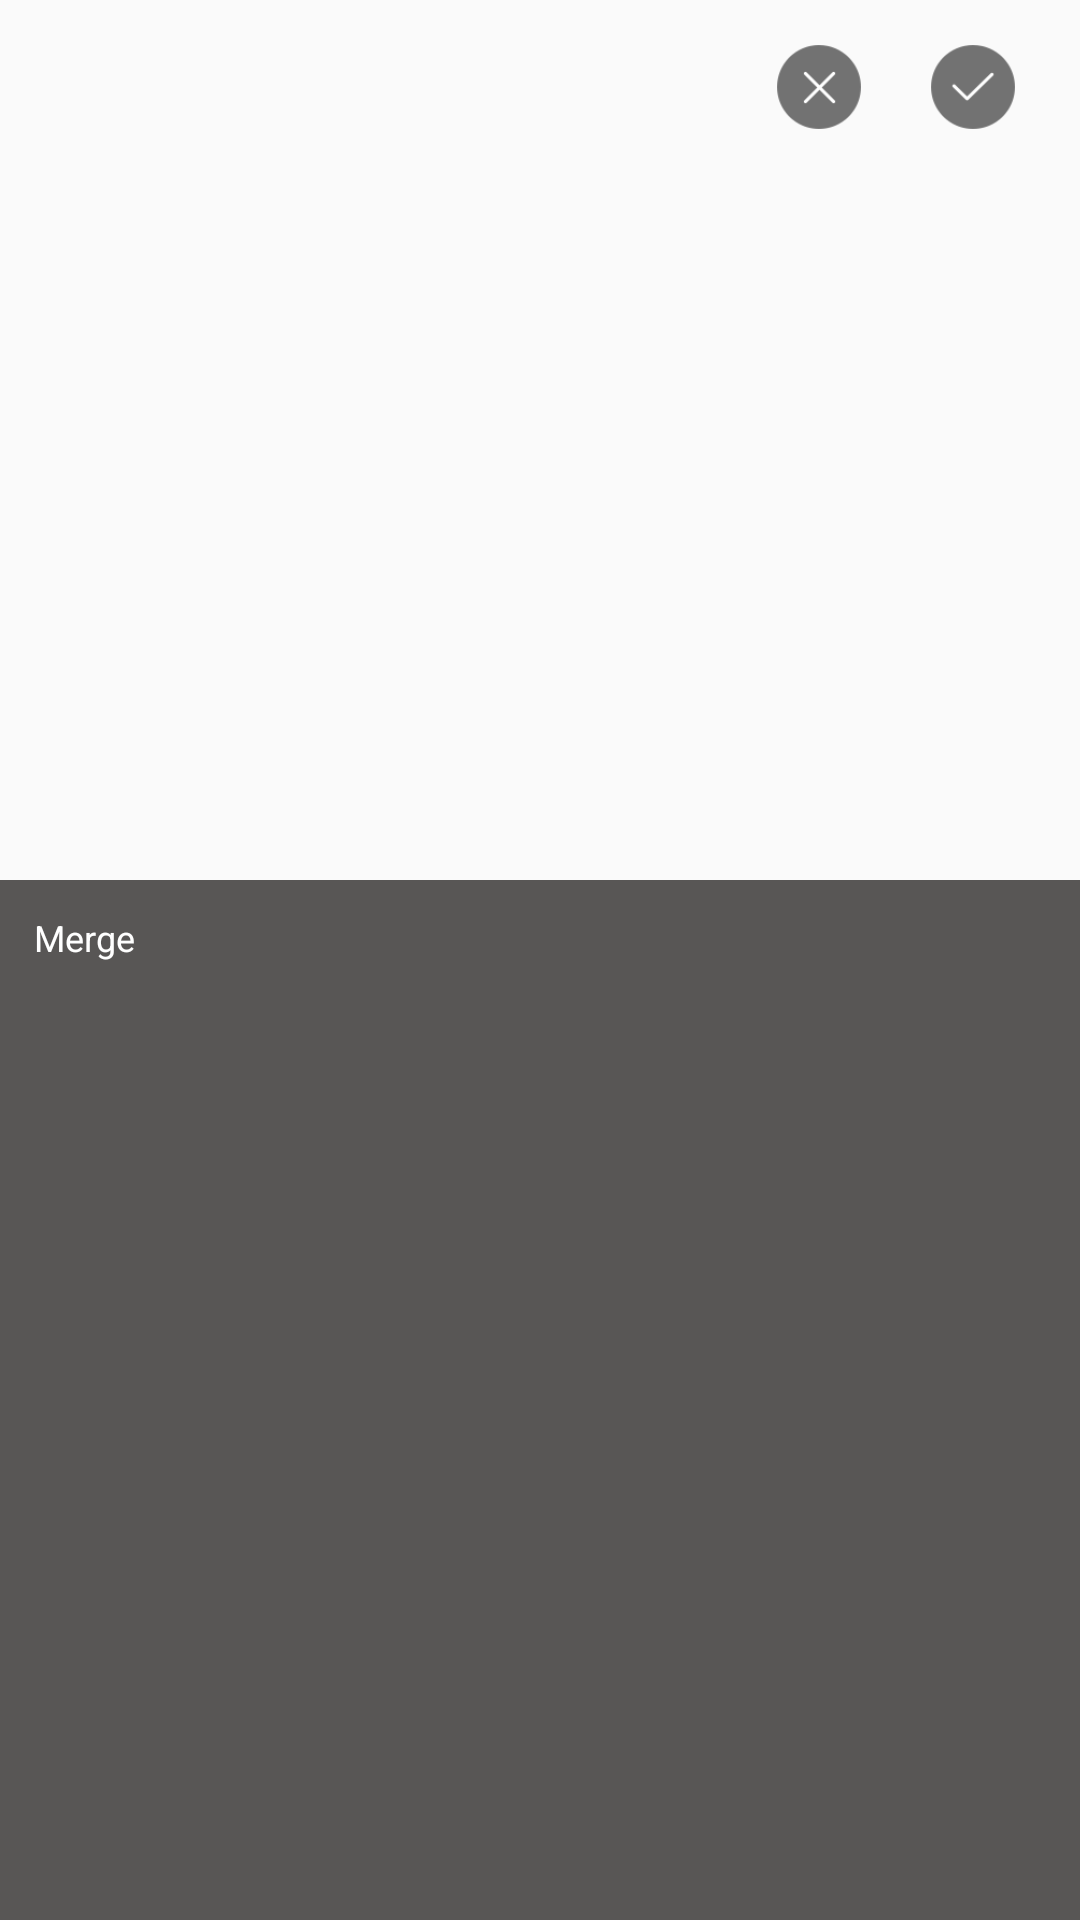

Icon click points for this 1080px x 1920px phone screenshot, format point (x, y):
merge cancel: point (819, 87)
merge confirm: point (973, 87)
